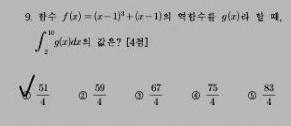choice: (17, 85, 33, 100)
not-choice: (245, 89, 257, 101), (133, 90, 144, 101), (190, 89, 200, 101), (77, 90, 87, 101)
